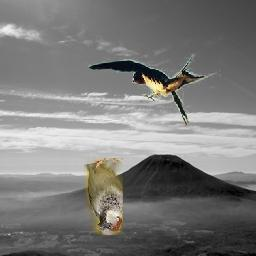Sparrow: (85, 159, 124, 236)
Swallow: (86, 54, 227, 127)
